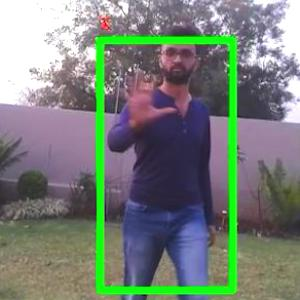follow_hand: (118, 64, 178, 128)
